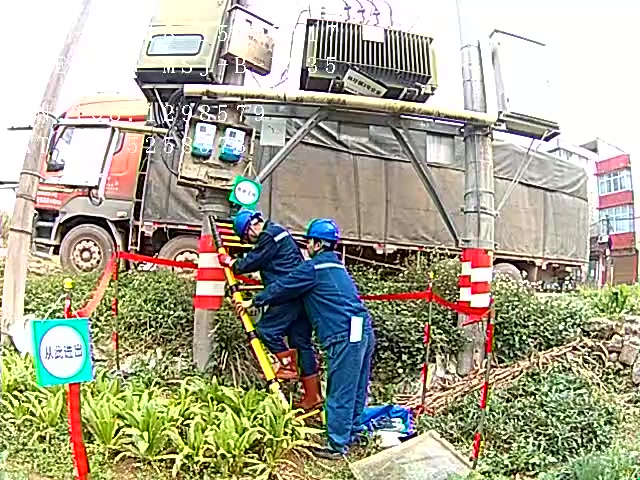downsuit: (321, 338, 371, 446), (252, 303, 316, 378)
halt: (303, 218, 342, 255), (233, 208, 266, 244)
hand: (232, 297, 252, 317)
inear: (243, 224, 260, 242), (310, 238, 325, 253)
intosign: (29, 311, 97, 391)
longglove: (218, 251, 241, 270)
person: (233, 218, 375, 462), (214, 206, 321, 408)
shoe: (274, 346, 320, 413)
upsuit: (254, 249, 373, 344), (231, 221, 306, 302)
worksign: (227, 174, 264, 208)
